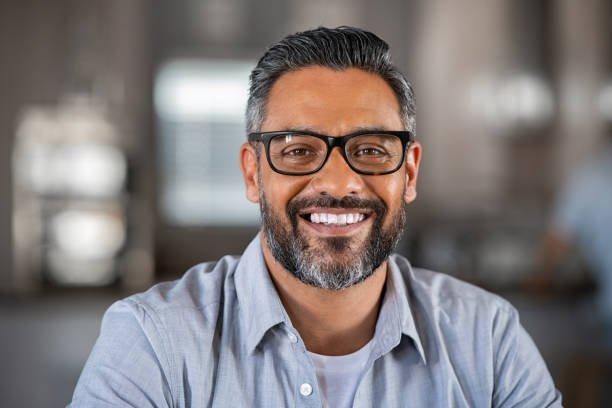Sober: (262, 77, 401, 272)
